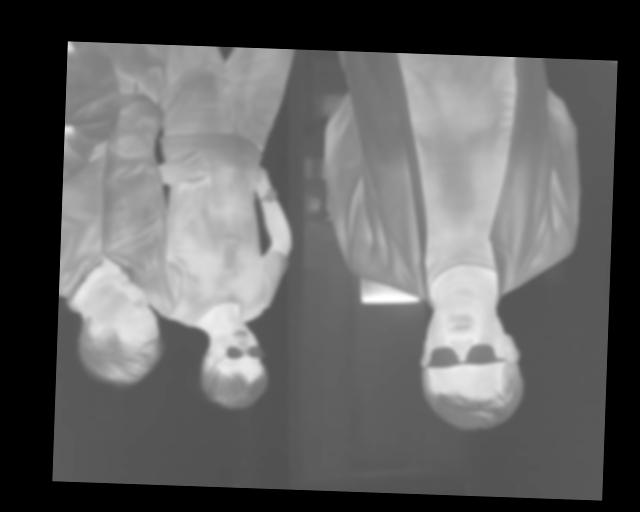face: (417, 291, 526, 435), (75, 268, 164, 390), (196, 320, 271, 412)
